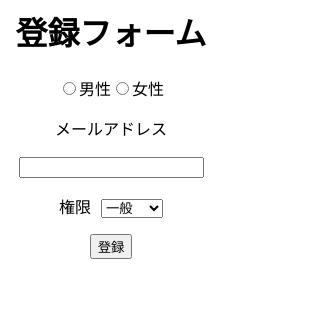
Test: Sample test › check email
Type "dummy@email.com" into the field with id "input-email". click: x=112, y=168
box: 19,157 -> 204,178
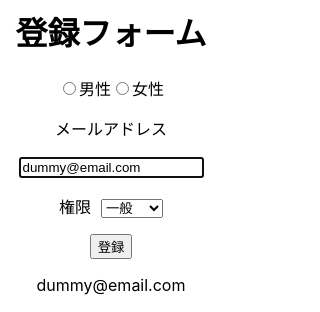
Result: the text with id "result-email" reads "dummy@email.com" at 37,275 -> 186,295
Replace the text in the field with id "input-email" with "test@email.com". click: x=112, y=168
box: 19,157 -> 204,178
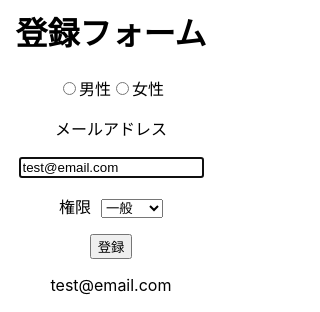
Result: the field with id "input-email" holds "test@email.com" at 19,157 -> 204,178
